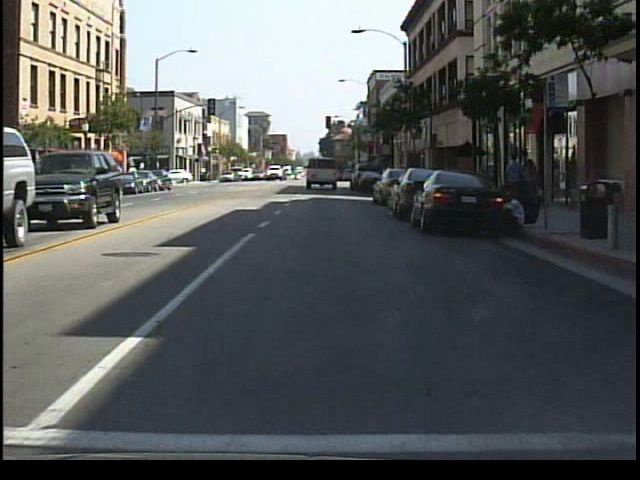person: (499, 146, 525, 213), (519, 155, 543, 212)
